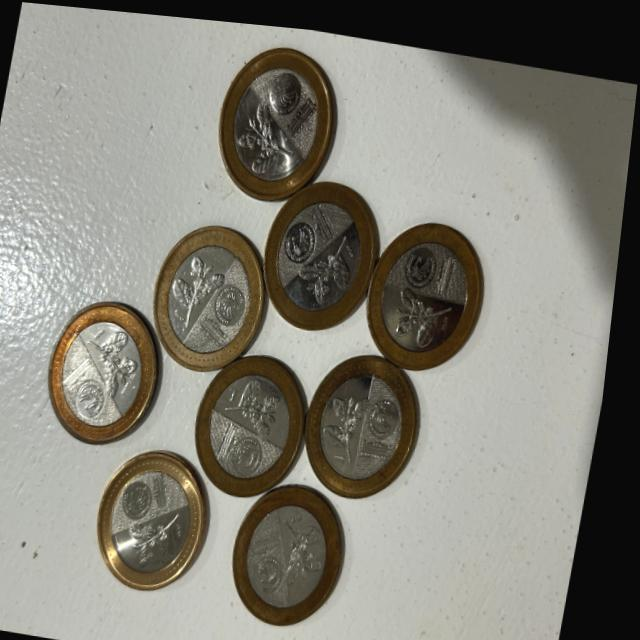20_New_Back: (395, 279, 461, 348), (174, 245, 233, 321), (229, 369, 298, 432), (328, 373, 383, 452), (301, 221, 358, 296), (238, 99, 301, 166), (134, 500, 195, 565), (89, 326, 147, 393), (289, 506, 338, 579)
